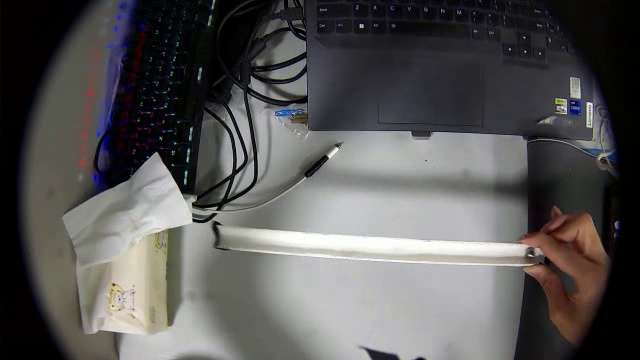gangzhu: (524, 245, 542, 259)
